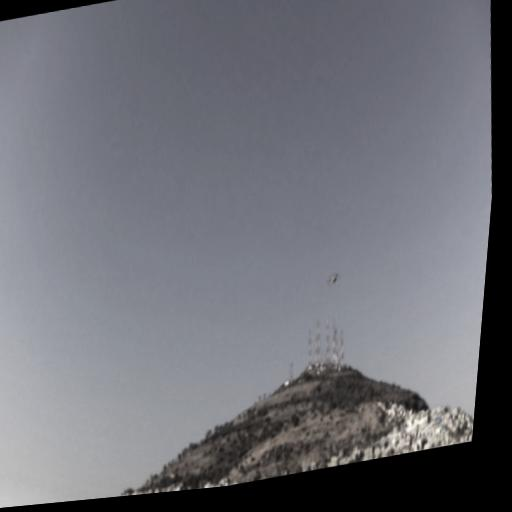drones: (326, 271, 343, 288)
